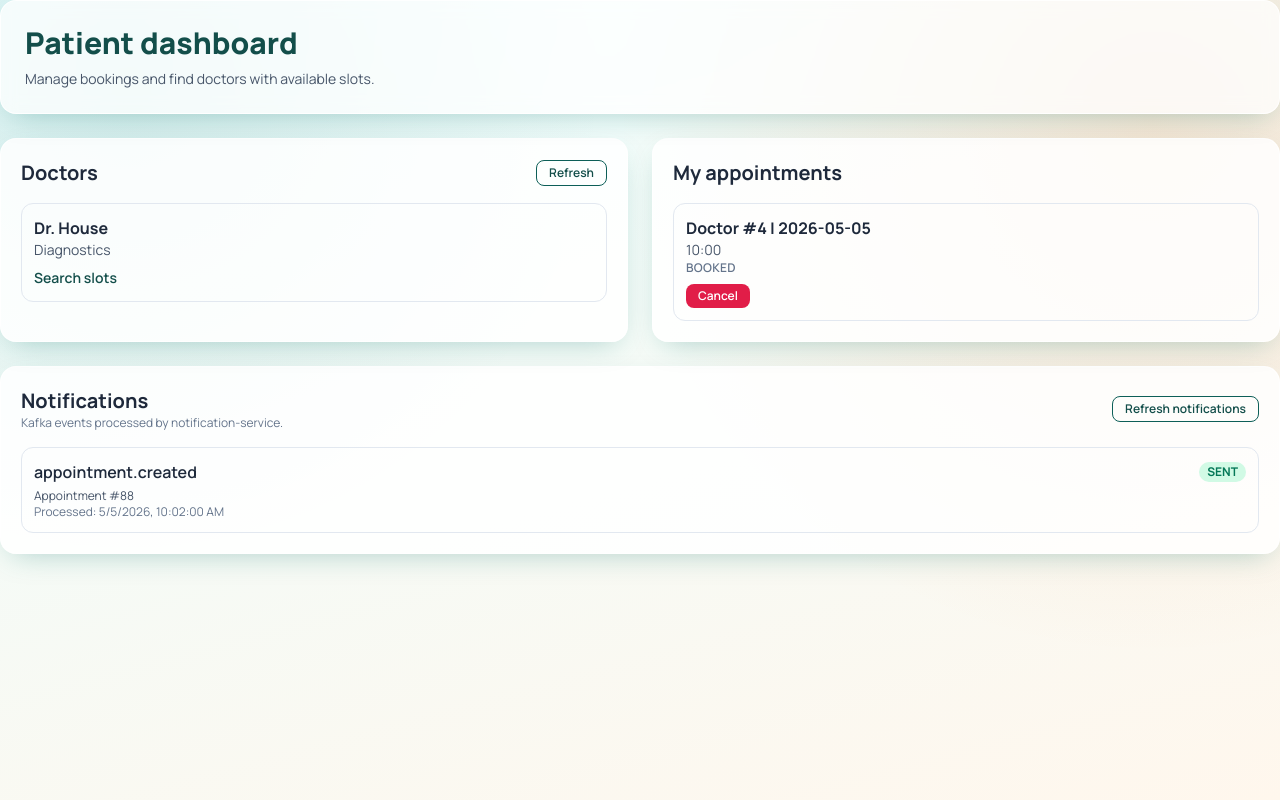
Test: PatientDashboardPage › does not cancel appointment when user keeps appointment
The image size is (1280, 800).
Check: the text "Doctor #4 | 2026-05-05" is shown, box x1=686 y1=217 x2=871 y2=239
Click the button "Cancel": (718, 296) x1=686 y1=284 x2=750 y2=308
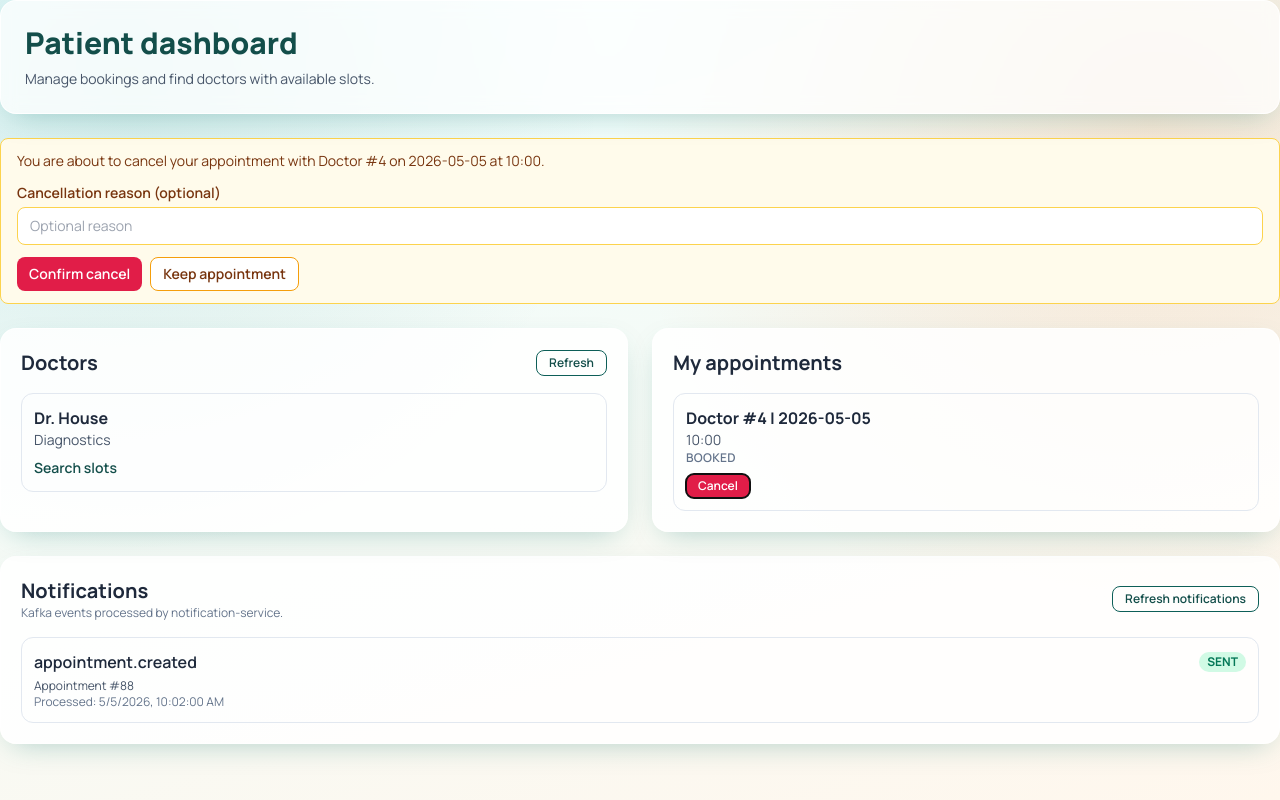
Click the button "Keep appointment": (225, 274) x1=150 y1=257 x2=299 y2=291
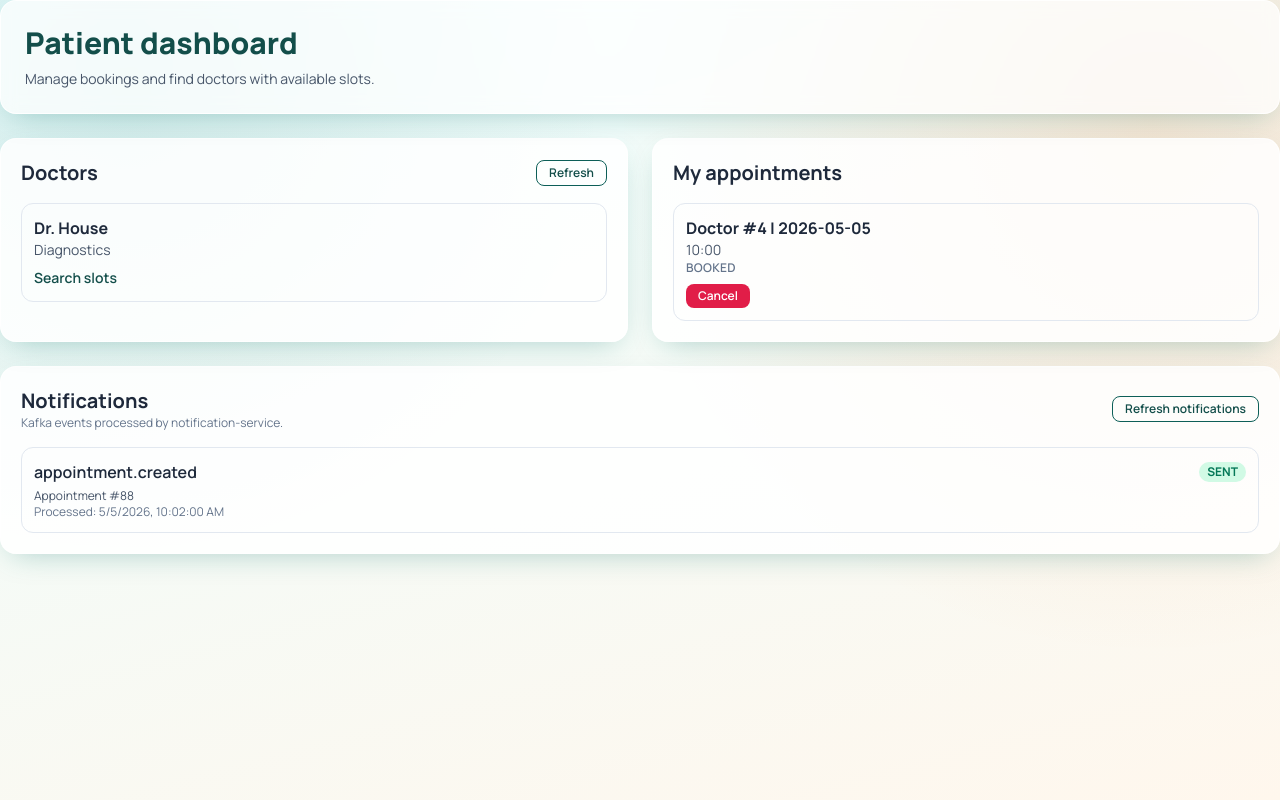
Click the button "Refresh notifications": (1186, 409) x1=1112 y1=396 x2=1259 y2=422
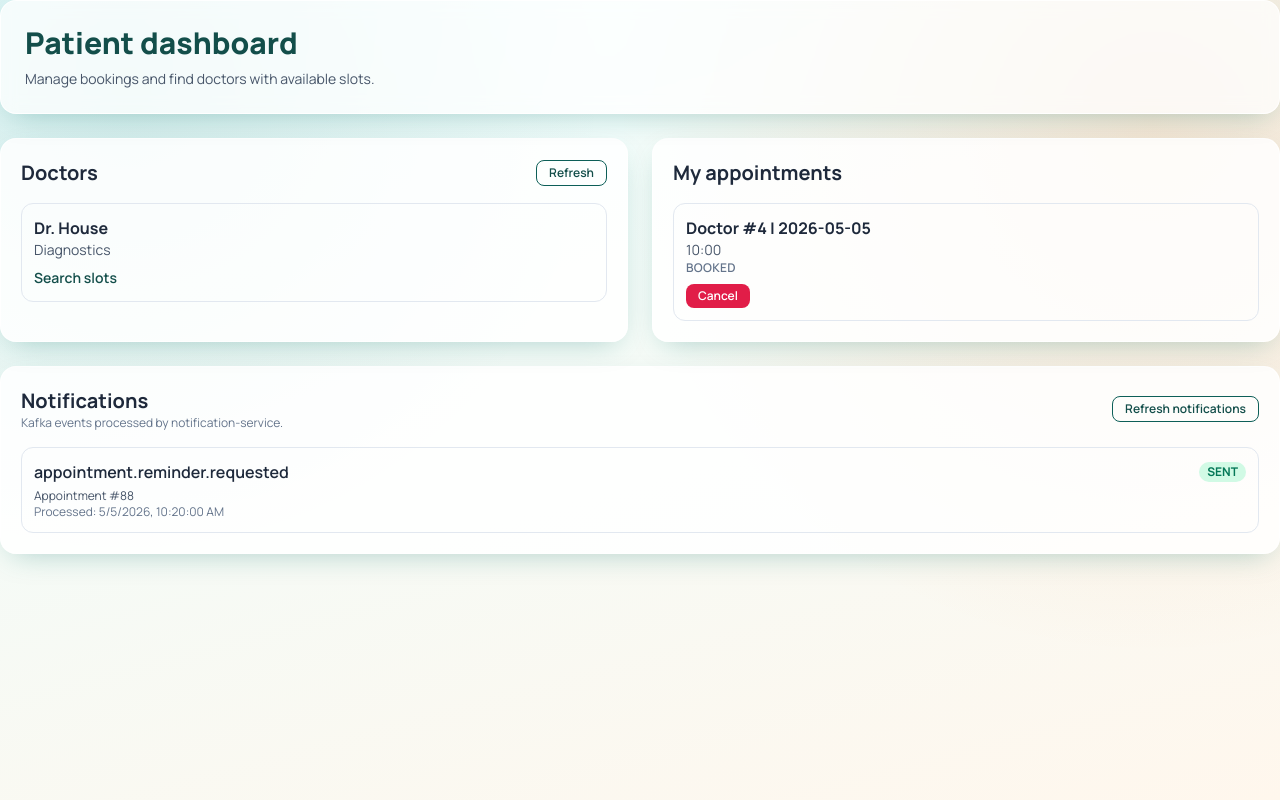
Check: the button "Confirm cancel" is not shown
Check: the text "appointment.reminder.requested" is shown, box x1=34 y1=460 x2=289 y2=484
